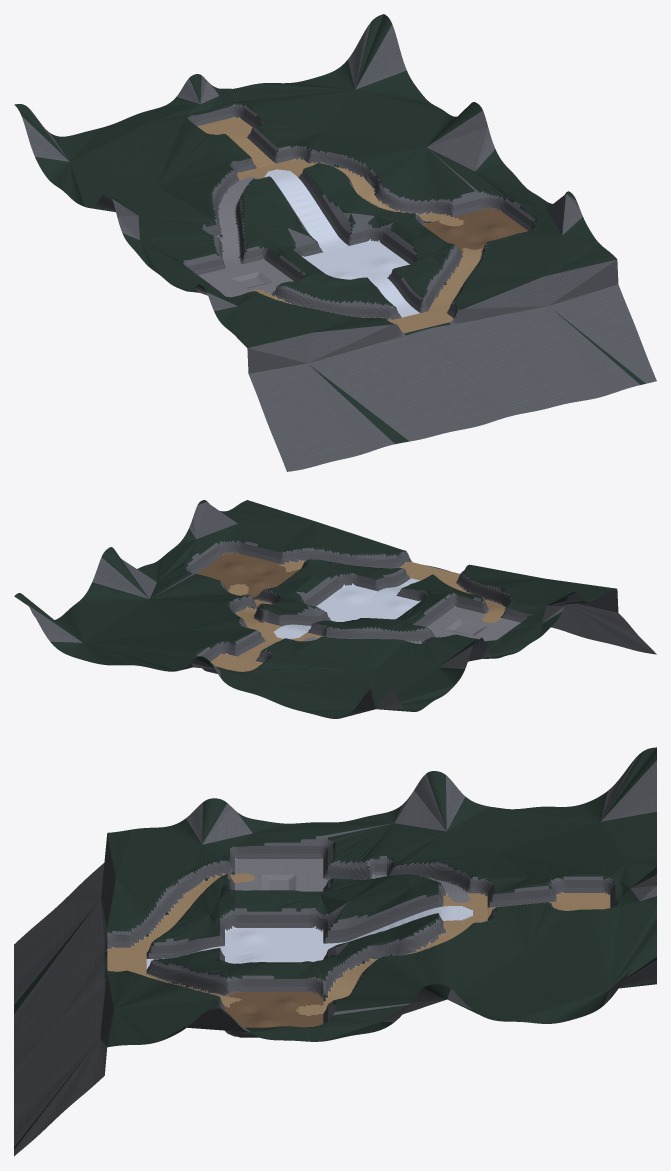
The model's file is Pohorje_Terrain.fbx.
The picture shows the model from 3 angles, top to bottom: view 1: azimuth 30°, elevation 25°; view 2: azimuth 150°, elevation 25°; view 3: azimuth 270°, elevation 25°; orthographic projection. The views are drawn at different scales.
Parts seen in each view (by area): view 1: TERRAIN_-2_4, TERRAIN_1_4, TERRAIN_0_4, TERRAIN_-1_4, TERRAIN_-1_3, TERRAIN_-2_1, TERRAIN_-1_1, TERRAIN_-2_0, TERRAIN_0_1, TERRAIN_0_0, TERRAIN_1_0, TERRAIN_1_1 (+14 smaller); view 2: TERRAIN_-2_3, TERRAIN_-2_0, TERRAIN_0_0, TERRAIN_1_0, TERRAIN_-1_3, TERRAIN_-1_0, TERRAIN_-1_2, TERRAIN_-2_2, TERRAIN_1_1, TERRAIN_1_3, TERRAIN_1_4, TERRAIN_1_2 (+14 smaller); view 3: TERRAIN_1_3, TERRAIN_-2_0, TERRAIN_1_1, TERRAIN_0_3, TERRAIN_0_2, TERRAIN_1_2, TERRAIN_0_1, TERRAIN_1_0, TERRAIN_0_0, TERRAIN_-1_0, TERRAIN_0_4, TERRAIN_-2_4 (+15 smaller).
Boxes of the visible parts, x1,y1,x2,y2 form: TERRAIN_-2_4: (464,257,656,410); TERRAIN_1_4: (246,324,398,471); TERRAIN_0_4: (308,322,475,443); TERRAIN_-1_4: (422,278,548,429); TERRAIN_-1_3: (376,244,543,327); TERRAIN_-2_1: (344,127,487,214); TERRAIN_-1_1: (273,151,410,238); TERRAIN_-2_0: (325,90,447,153); TERRAIN_0_1: (159,171,325,252); TERRAIN_0_0: (149,118,275,186); TERRAIN_1_0: (49,123,157,215); TERRAIN_1_1: (95,186,238,263); TERRAIN_-2_3: (197,501,340,569); TERRAIN_-2_0: (55,599,226,642); TERRAIN_0_0: (235,635,374,686); TERRAIN_1_0: (276,667,460,710); TERRAIN_-1_3: (298,521,436,594); TERRAIN_-1_0: (83,609,281,666); TERRAIN_-1_2: (254,561,384,621); TERRAIN_-2_2: (157,539,297,600); TERRAIN_1_1: (374,634,495,677); TERRAIN_1_3: (471,578,615,623); TERRAIN_1_4: (551,579,656,654); TERRAIN_1_2: (422,599,540,655); TERRAIN_1_3: (109,798,252,903); TERRAIN_-2_0: (448,941,609,1023); TERRAIN_1_1: (328,771,498,879); TERRAIN_0_3: (107,877,236,964); TERRAIN_0_2: (230,878,358,953); TERRAIN_1_2: (230,823,392,891); TERRAIN_0_1: (321,852,496,941); TERRAIN_1_0: (447,802,626,862); TERRAIN_0_0: (449,852,625,912); TERRAIN_-1_0: (453,902,609,989); TERRAIN_0_4: (14,880,116,1044); TERRAIN_-2_4: (14,974,113,1156).
Bounding box in the file's own units: 20500 × 8996 × 26200.
